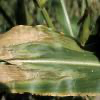Corn leaf blight: (0, 25, 99, 96)
